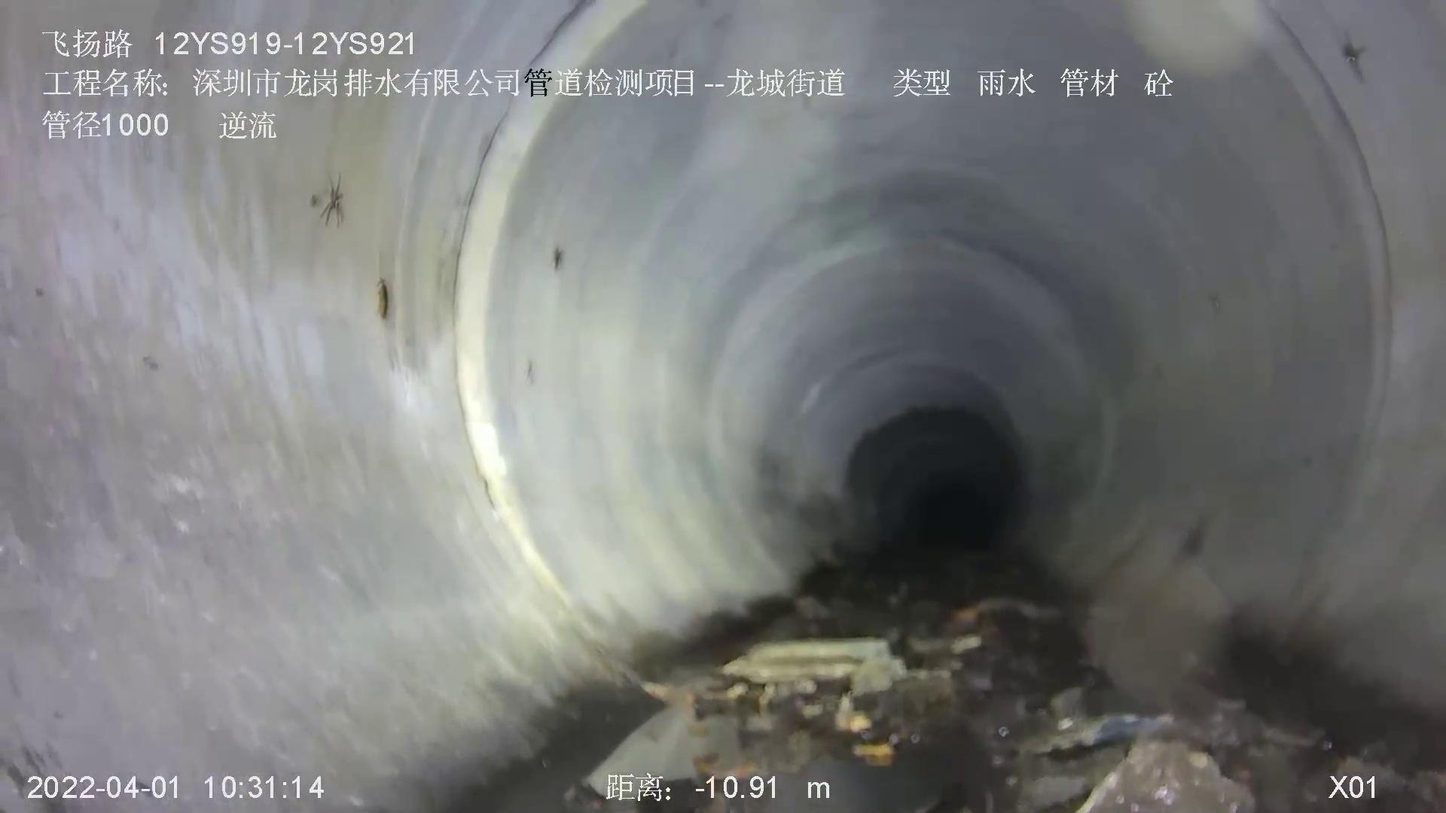CJ: (561, 541, 1445, 812)
CKTJ: (438, 2, 684, 706), (1227, 0, 1399, 662)
